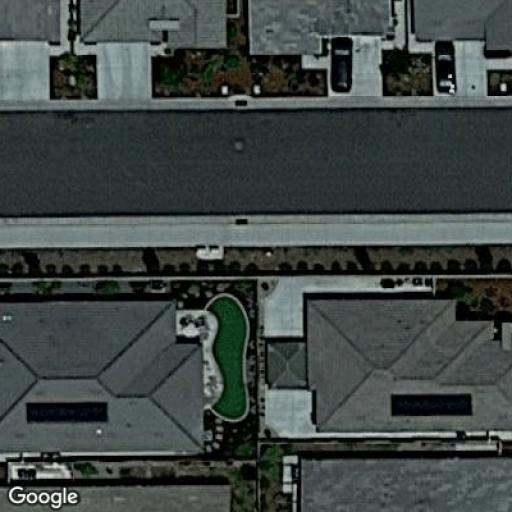solar-panel: (388, 391, 474, 418), (25, 401, 110, 425)
